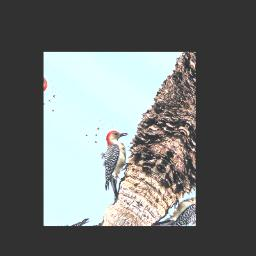Woodpecker: (81, 122, 150, 203)
